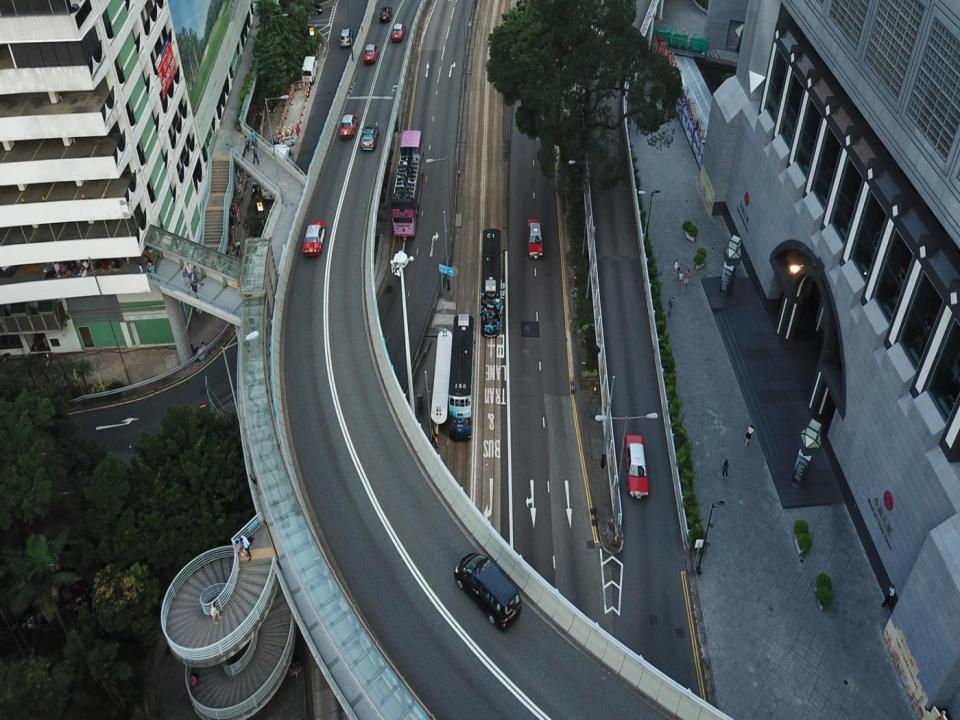bus: (391, 129, 422, 237), (449, 314, 475, 442), (482, 228, 502, 336)
car: (454, 551, 522, 631), (624, 434, 648, 498), (302, 220, 325, 256), (528, 218, 543, 258), (361, 122, 377, 150), (338, 114, 356, 137), (364, 44, 377, 64), (340, 26, 353, 46), (301, 4, 323, 15), (390, 23, 404, 40), (379, 5, 391, 20)
van: (270, 144, 292, 174), (301, 55, 318, 81)
